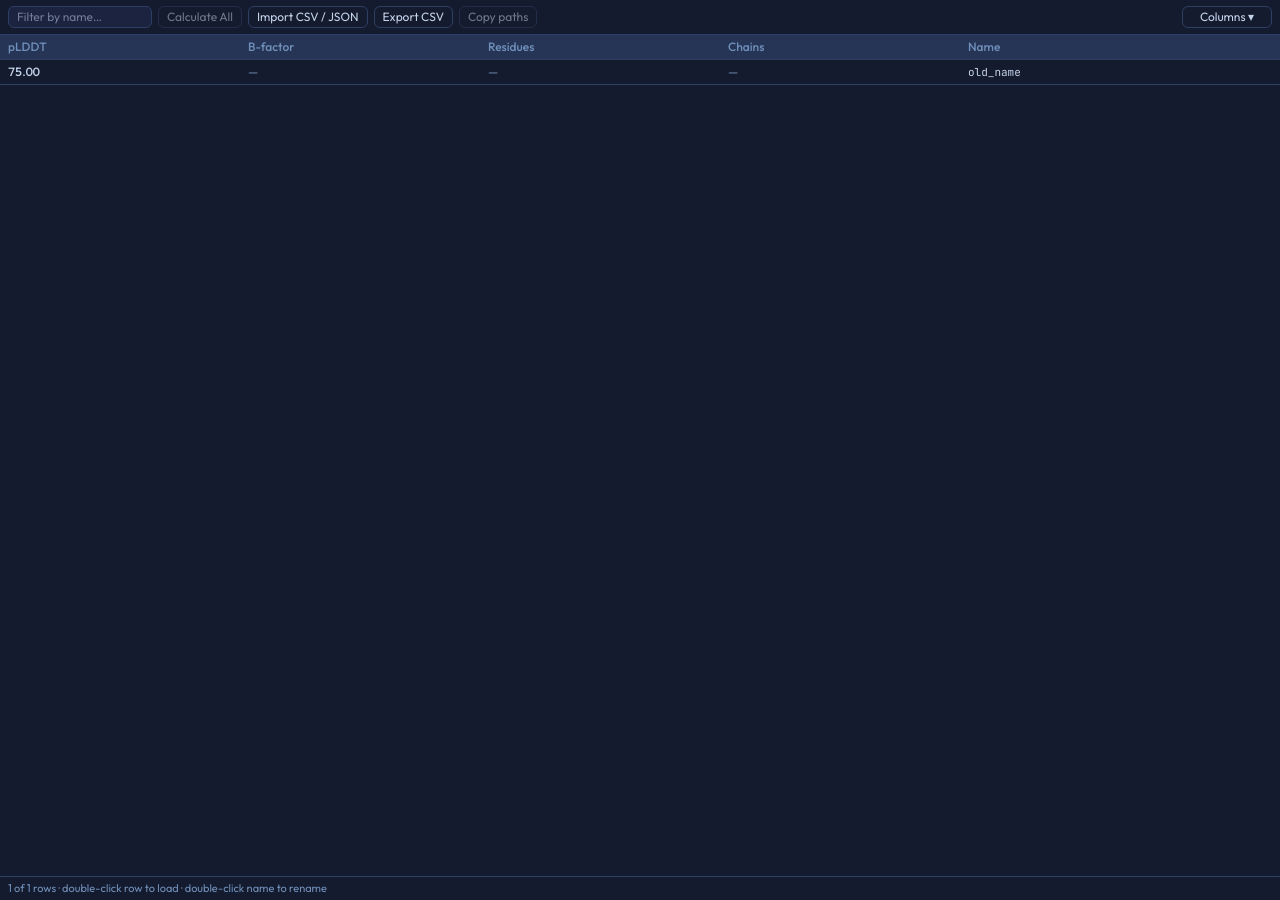
Test: MetricsTable › name cell rename › double-clicking name cell shows a text input
Double-click the text titled "Double-click to rename": [994, 72] box [968,65,1021,79]
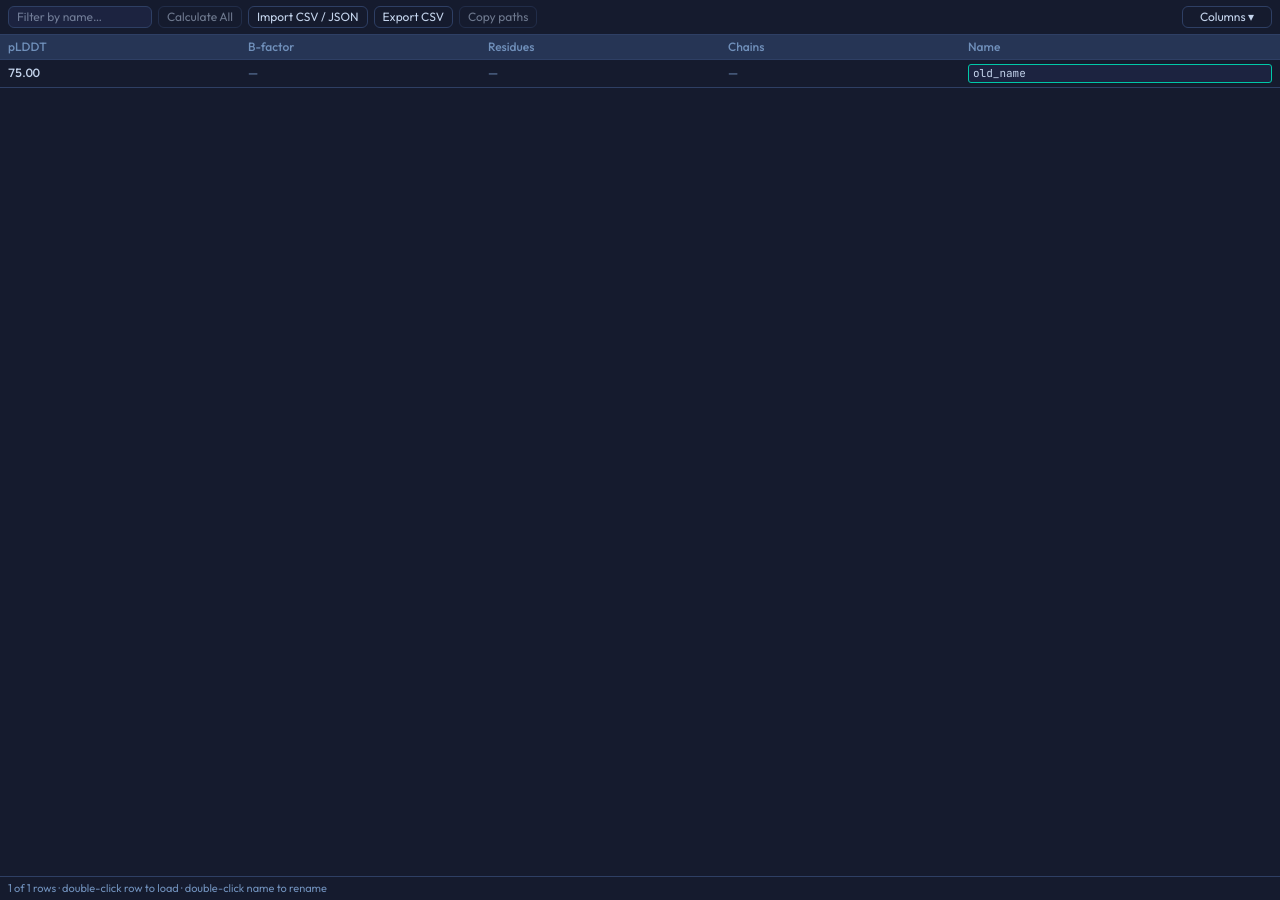
expect the field showing "old_name" is shown: met, box [968,64,1272,83]
